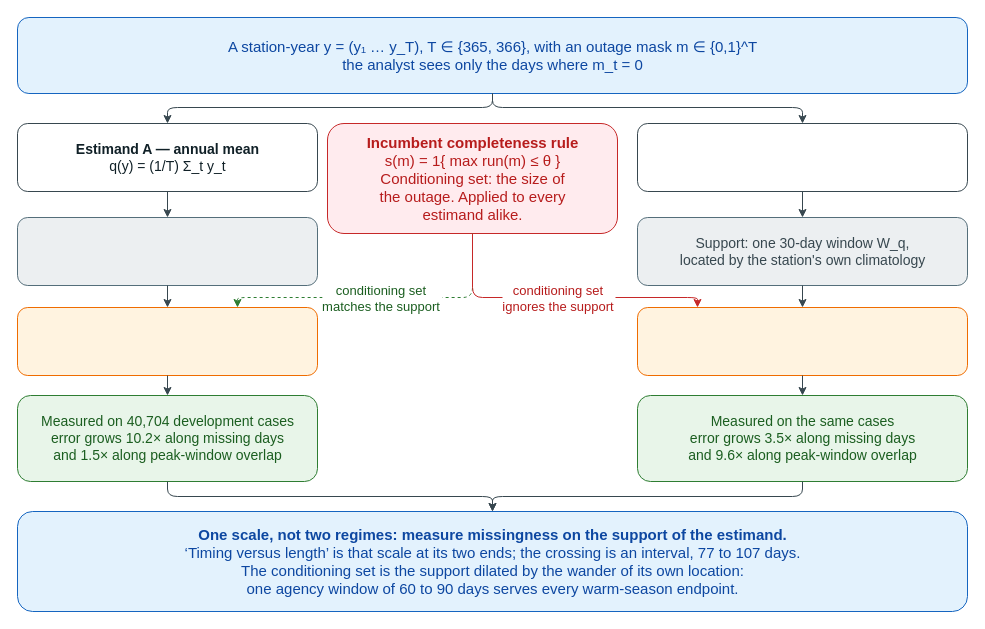
Some shapes in this 985 by 629 pixel diagram are drawn without their labels. The shapes that lost their labels are listed below. From the top down, each one's centre as x and y in pixels, then its label:
(802,157): Estimand B — hottest 30-day mean q(y) = max_t (1/30) Σ_{i=t..t+29} y_i
(167,251): Support: all T days, each carrying weight 1/T
(167,341): Governing axis how many days are missing
(802,341): Governing axis how much of W_q is hidden
